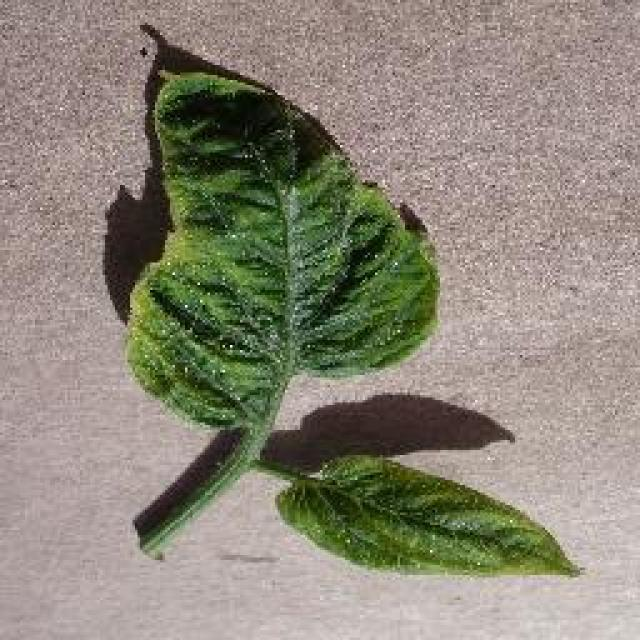Tomato yellow virus leaf: (126, 59, 439, 429), (276, 451, 584, 591)
